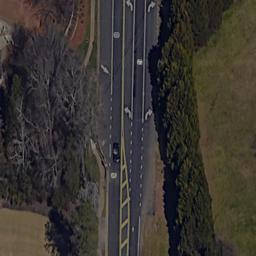Car: (112, 140, 119, 168)
Chevron: (119, 150, 134, 256)
Double Solid Yellow Line: (119, 1, 125, 148)
Left Merge Arrow: (99, 62, 111, 76)
Left Turn Arrow: (123, 105, 133, 119), (125, 1, 134, 11)
Right Turn Arrow: (146, 1, 156, 14), (145, 107, 153, 123)
Solid White Line: (141, 1, 148, 123), (131, 1, 137, 125), (110, 1, 115, 91)
White Dashed Line: (127, 120, 134, 195), (107, 93, 114, 163), (139, 124, 144, 215)
